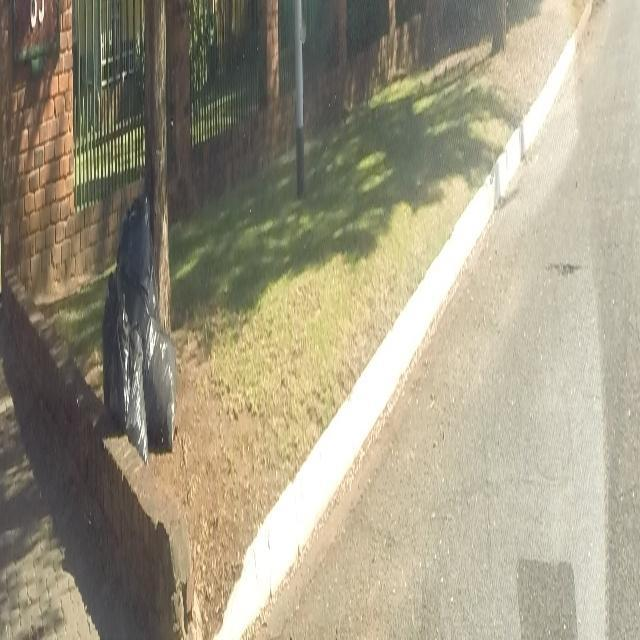pothole: (543, 255, 586, 279)
